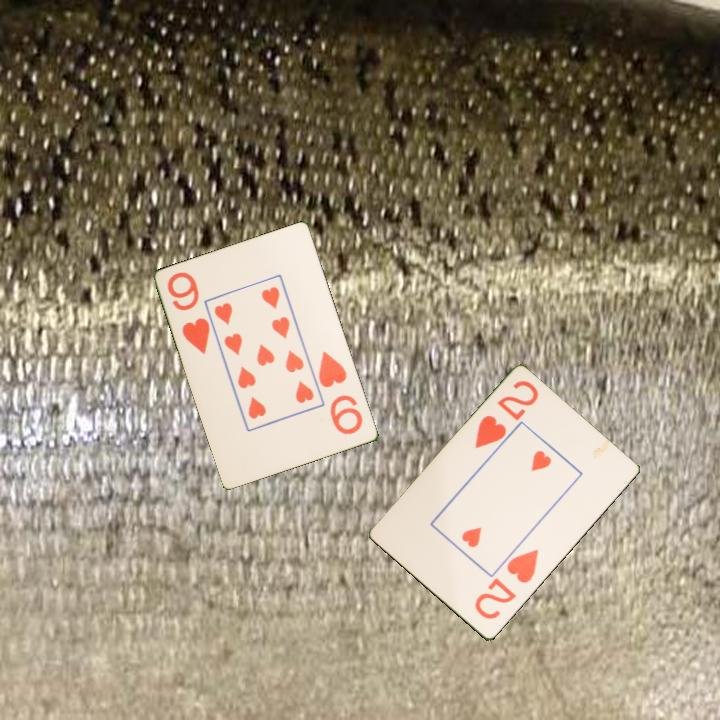2h: (471, 546, 542, 623), (471, 377, 541, 452)
9h: (315, 348, 366, 438), (164, 268, 213, 357)
